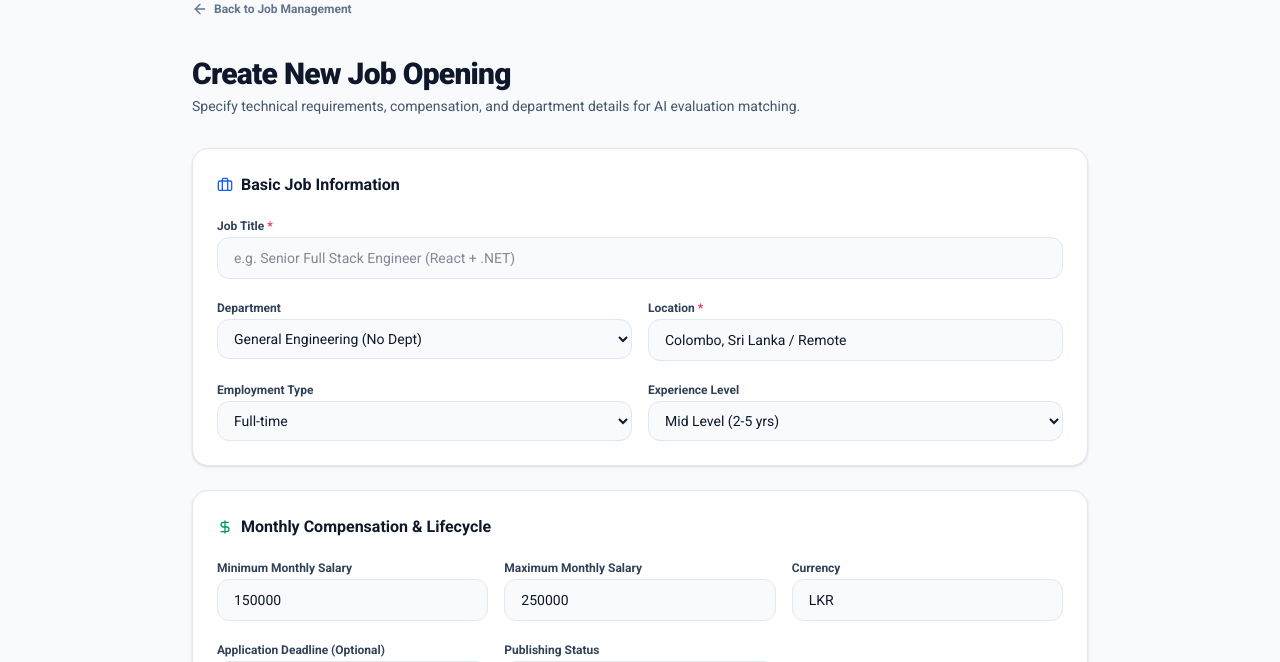
Test: CreateEditJobPage - Form Validation and Error Handling › form validation › rejects submission when job description has fewer than 20 characters
Type "Senior Engineer" into the field with placeholder "e.g. Senior Full Stack Engineer (React + .NET)" at (640, 258), box [217, 237, 1063, 279]
(page scrolled)
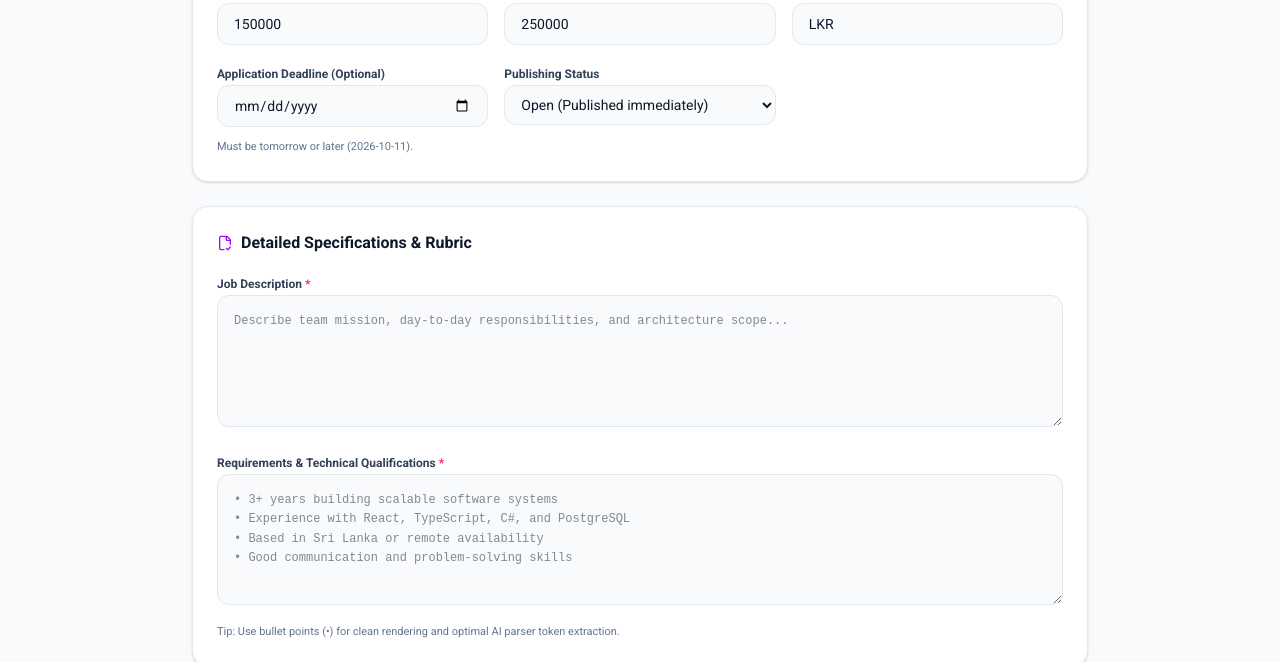
Type "Too short" into the text box with placeholder "Describe team mission" at (640, 361), box [217, 295, 1063, 426]
(page scrolled)
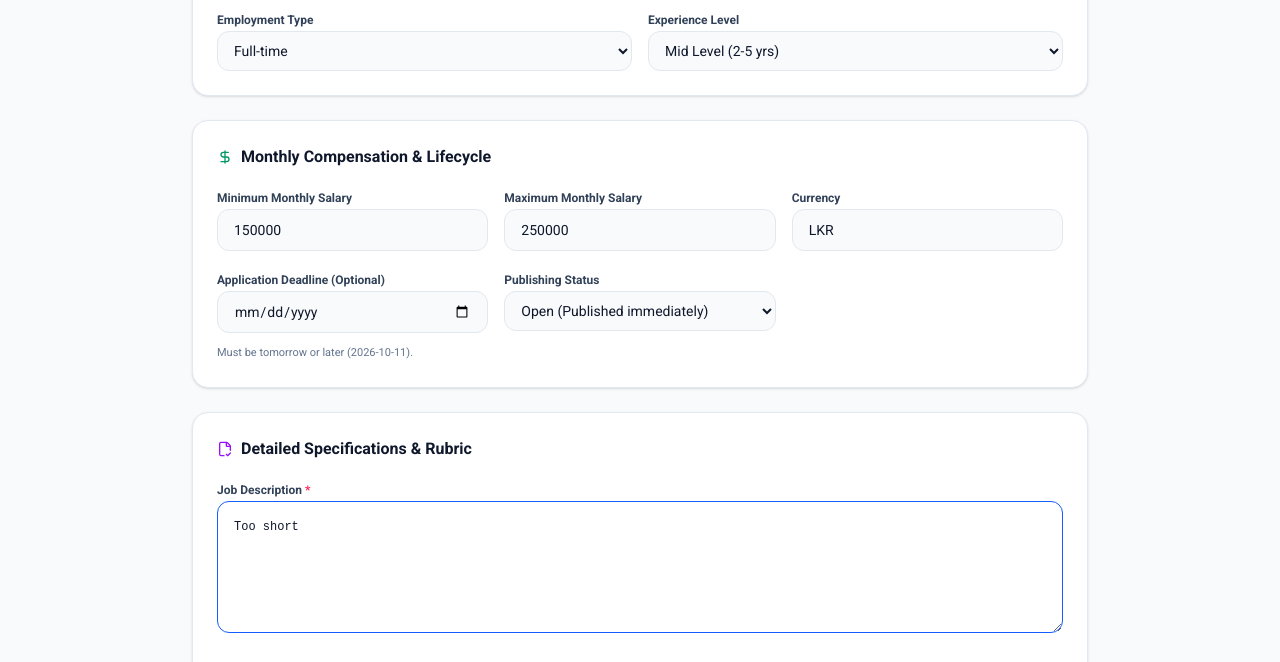
Submit the form
(page scrolled)
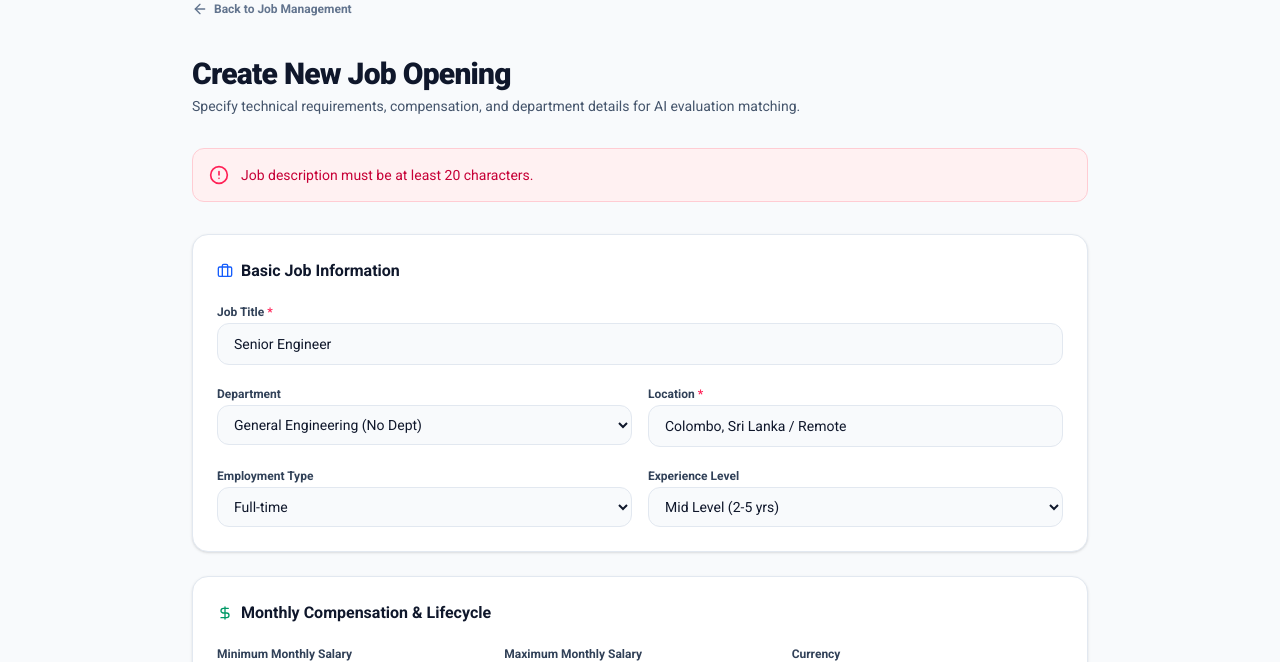
expect the text "Job description must be at least 20 characters." is shown: met, box [241, 165, 534, 185]
